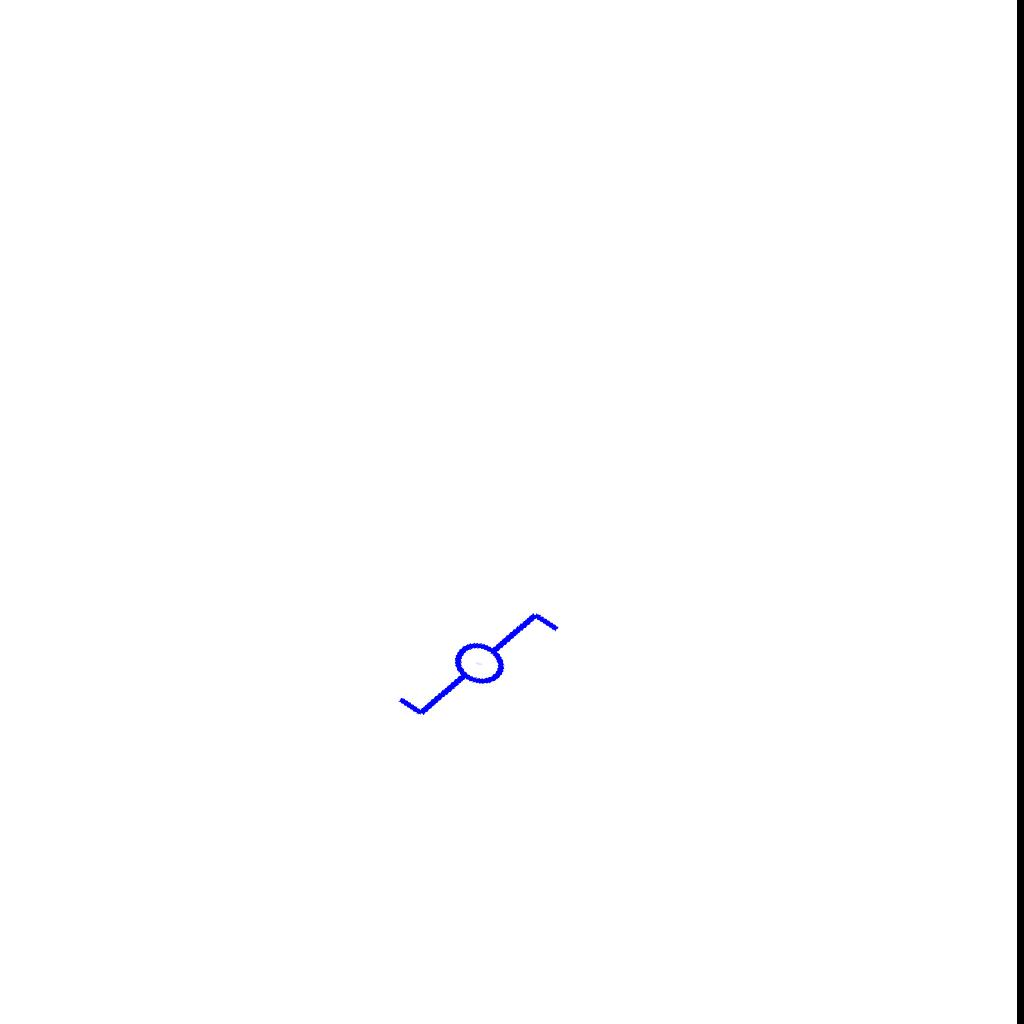Wechselschalter: (390, 576, 583, 760)
